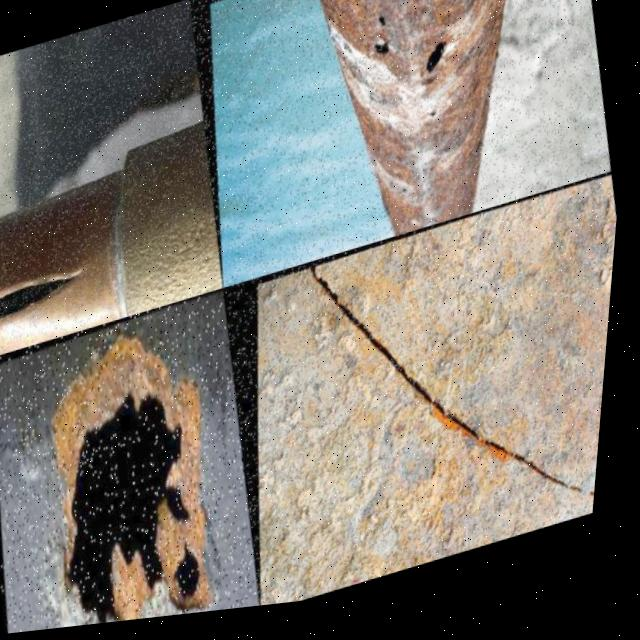crack: (303, 275, 605, 516)
hole: (32, 363, 236, 635), (171, 538, 223, 622), (415, 42, 456, 92), (365, 42, 396, 84), (367, 14, 389, 43), (399, 188, 417, 213), (426, 116, 441, 135)
rupture: (1, 251, 96, 336)
